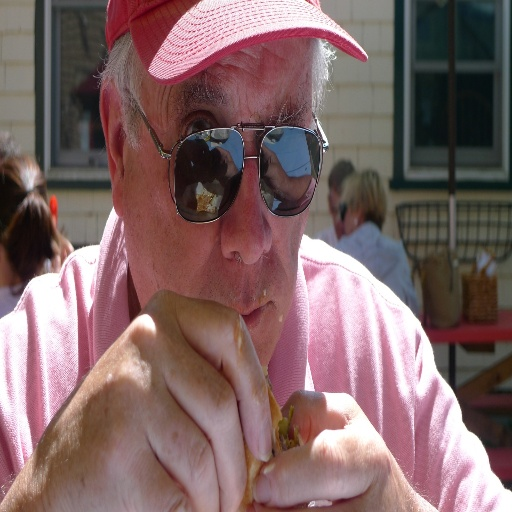hand: (15, 290, 273, 511), (275, 380, 409, 499), (53, 231, 75, 270)
